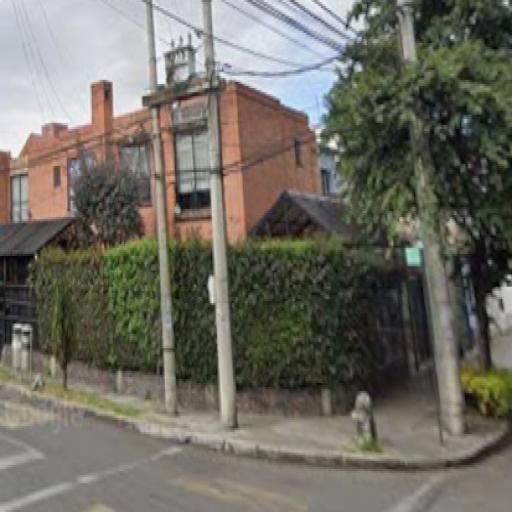poste: (198, 1, 240, 431), (142, 0, 180, 416)
